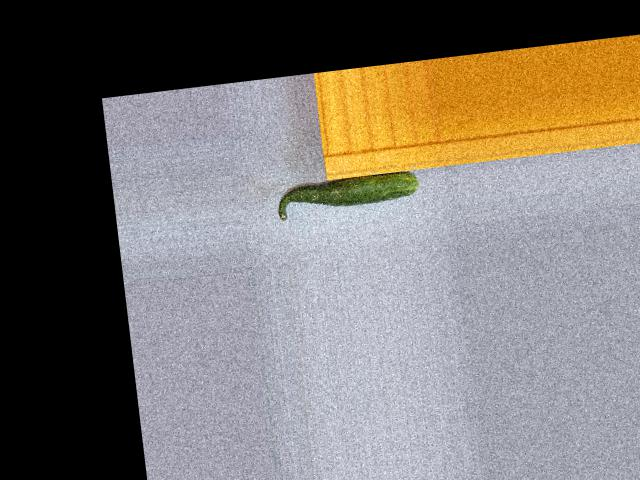cucumber: (274, 169, 419, 221)
